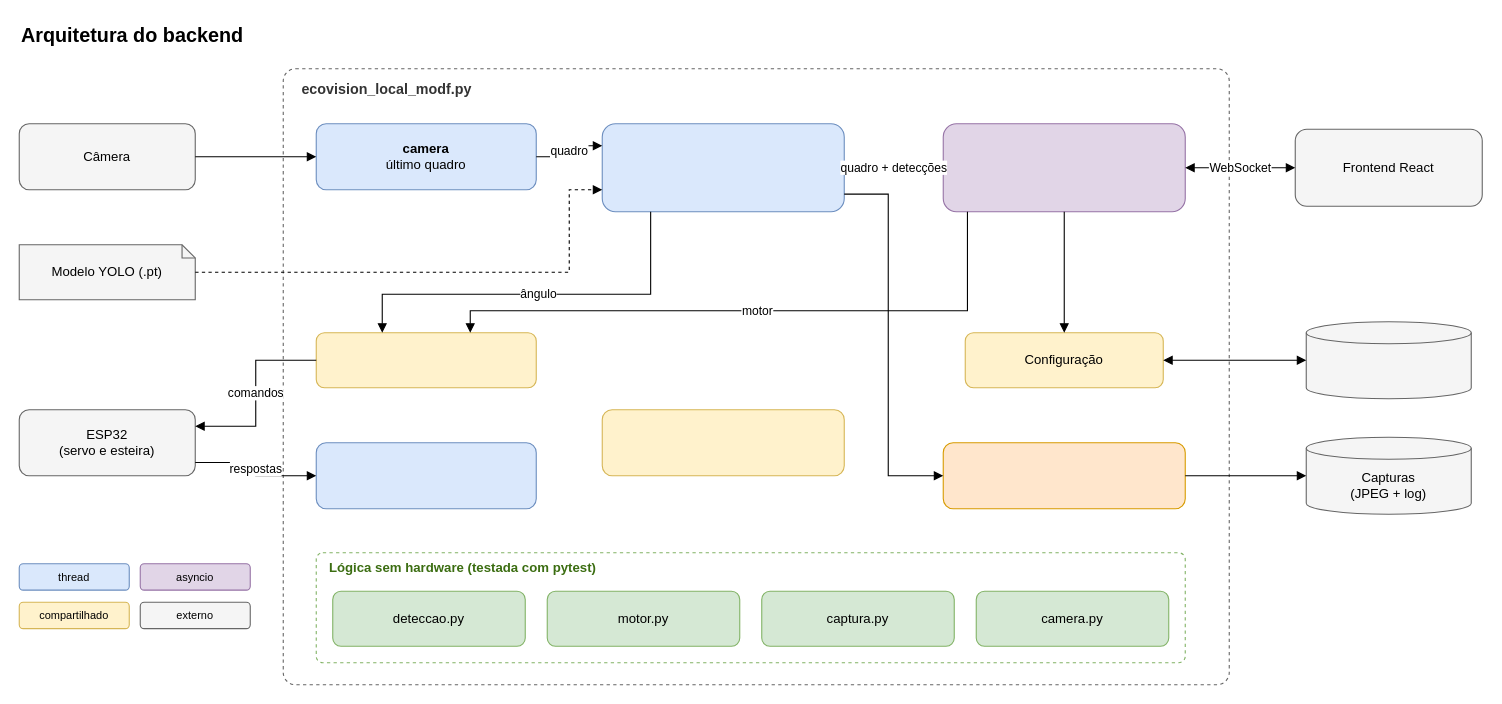
Some shapes in this 1502 by 704 pixel diagram are drawn without their labels. Here are the shapes that lost their labels. From the top down, the centre of each, then its label:
At (722,167): "yolo detecção e rastreamento disparo por objeto".
At (1063,167): "Servidor WebSocket (asyncio)".
At (425,360): "Escrita serial (com trava)".
At (1388,360): "config.json".
At (722,442): "Estado compartilhado motor, fps, detecções".
At (425,475): "serial leitura e reconexão".
At (1063,475): "captura grava quadros para anotação".
